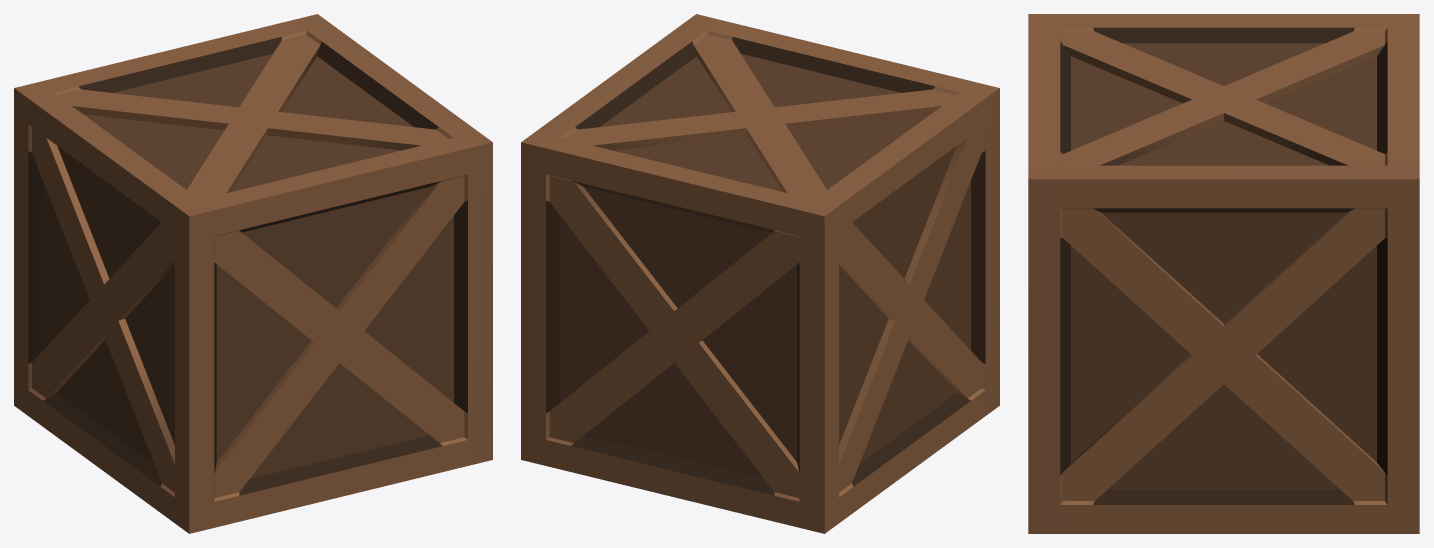
The model's file is Wooden Box.fbx.
The picture shows the model from 3 angles, left to right: view 1: azimuth 30°, elevation 25°; view 2: azimuth 150°, elevation 25°; view 3: azimuth 270°, elevation 25°; orthographic projection. The views are drawn at different scales.
Visible parts, largest first — view 1: Cube.003; view 2: Cube.003; view 3: Cube.003.
Part boxes in pixels (<box>): Cube.003: <box>14,14,492,533</box>; Cube.003: <box>521,14,999,533</box>; Cube.003: <box>1028,14,1419,533</box>.
Size of the model in its own units: 200 by 200 by 200.
Materials: 1 (1 with a texture image).
